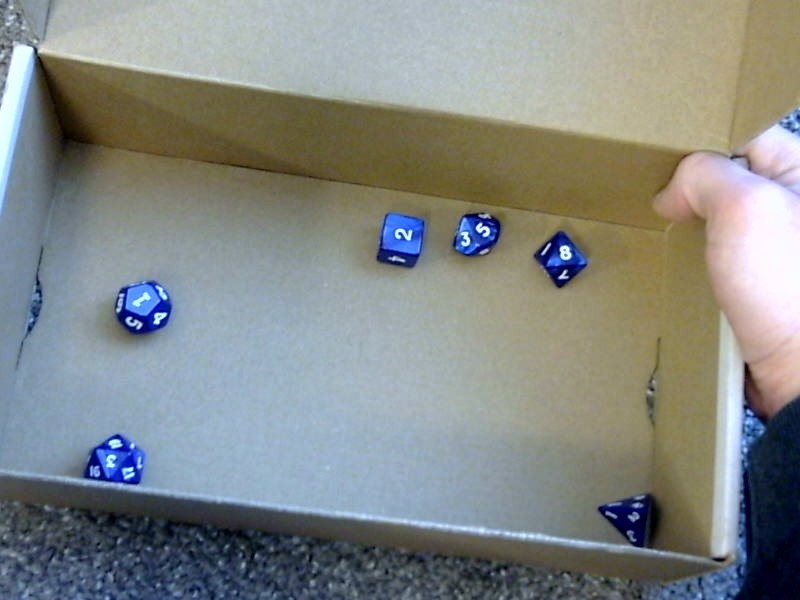d10 5: (451, 203, 501, 259)
d20 1: (109, 275, 176, 338)
d20 3: (79, 432, 151, 488)
d4 2: (596, 478, 658, 554)
d6 2: (375, 210, 426, 270)
d8 8: (531, 230, 589, 293)
